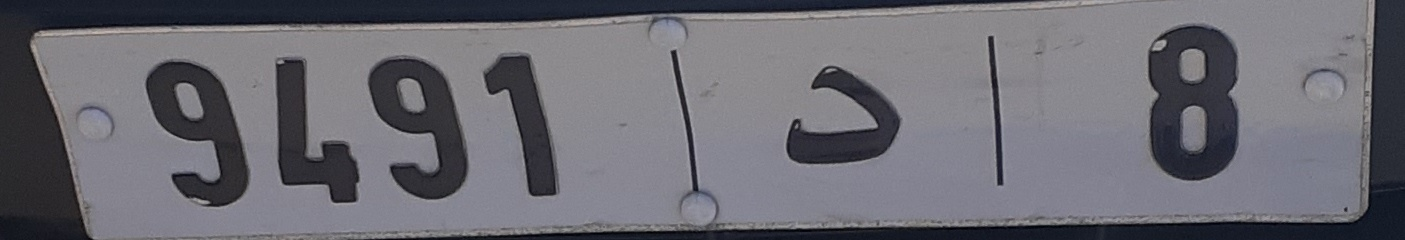1: (470, 32, 584, 200)
4: (261, 46, 367, 218)
8: (1134, 13, 1258, 202)
9: (112, 55, 269, 235), (365, 46, 472, 210)
d: (750, 40, 912, 185)
